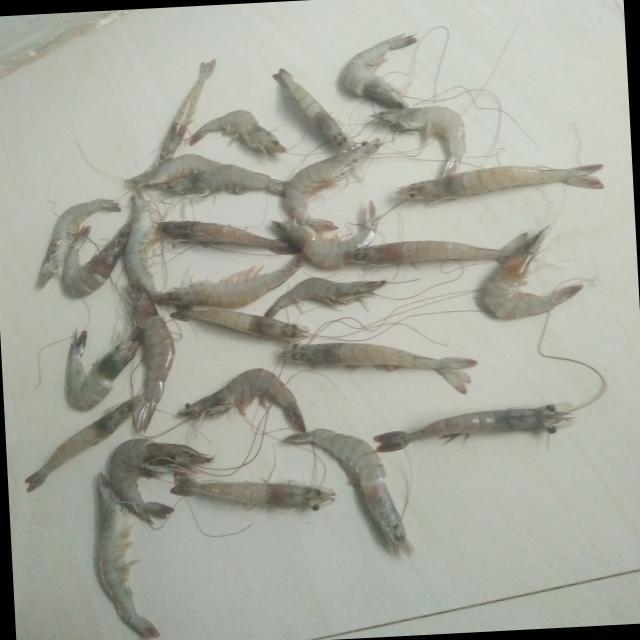shrimp: (284, 429, 413, 555), (24, 396, 140, 493), (96, 473, 159, 640), (280, 343, 478, 394), (375, 403, 574, 452), (483, 226, 584, 319), (107, 439, 212, 525), (284, 139, 380, 231), (152, 254, 305, 308), (177, 369, 306, 432), (397, 164, 604, 201), (35, 198, 120, 288), (273, 201, 378, 269), (128, 283, 174, 433), (273, 68, 356, 150), (372, 105, 466, 176), (64, 329, 140, 411), (156, 58, 215, 163), (346, 232, 528, 265), (340, 34, 417, 107), (61, 220, 130, 297), (264, 277, 387, 318), (170, 480, 335, 509), (157, 221, 298, 254), (188, 109, 286, 153), (170, 309, 309, 340), (163, 164, 285, 195), (123, 192, 158, 298), (123, 153, 222, 187)
